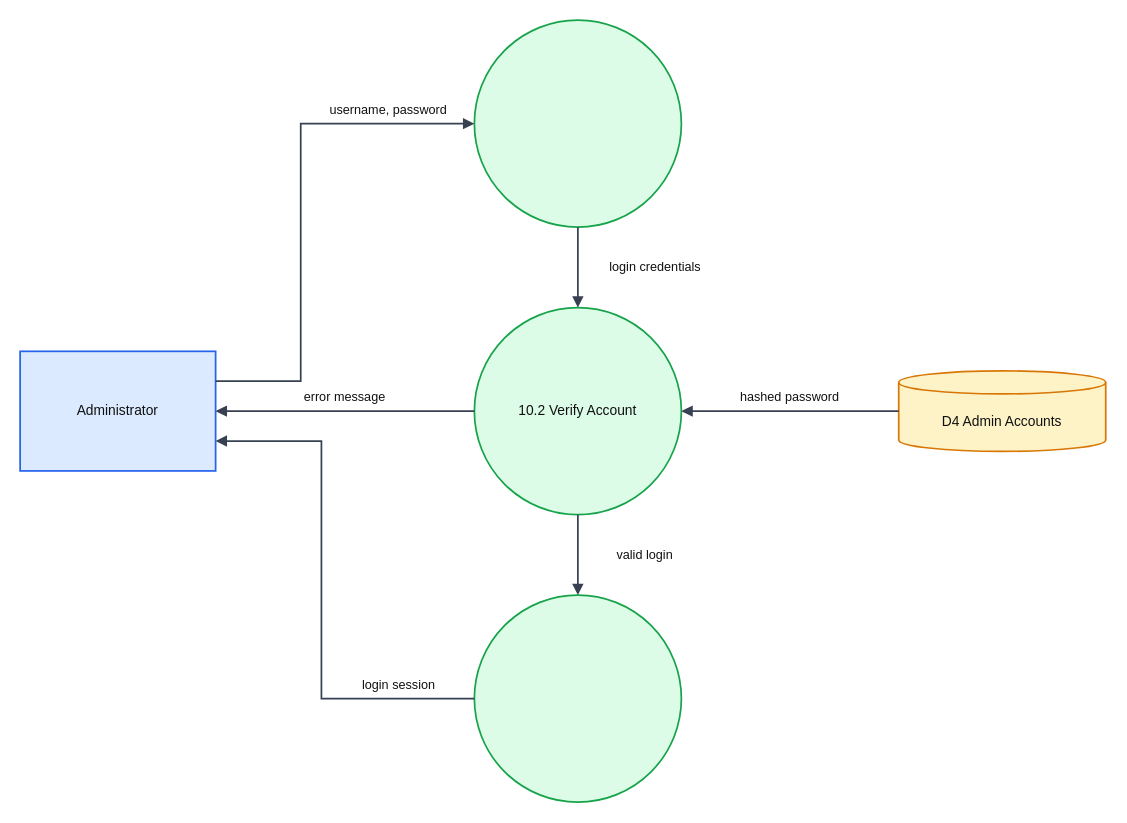
Some shapes in this 1127 by 823 pixel diagram are drawn without their labels. Here are the shapes that lost their labels. From the top down, the box of each, then its label:
(473, 19, 682, 227): 10.1 Receive Login Credentials
(473, 594, 682, 802): 10.3 Create Login Session
